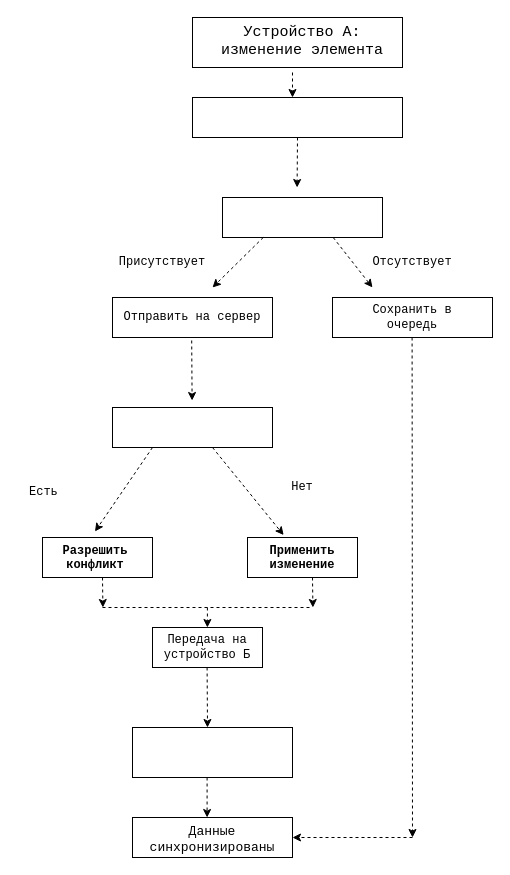
Image size: 510x875. Some labels were removed from this diagram. Each missing label, with the centre of its shape:
"Локальное сохранение" goes at point 297,117.
"Проверка соединения" goes at point 302,217.
"Сервер проверят конфликты" goes at point 192,427.
"Устройство Б обновляет хранилище" goes at point 212,752.
